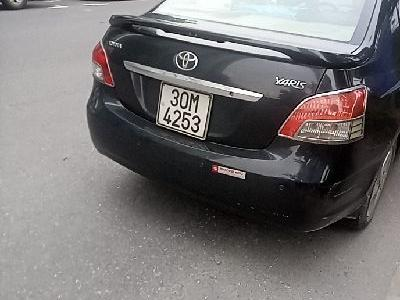number: (153, 82, 209, 140)
